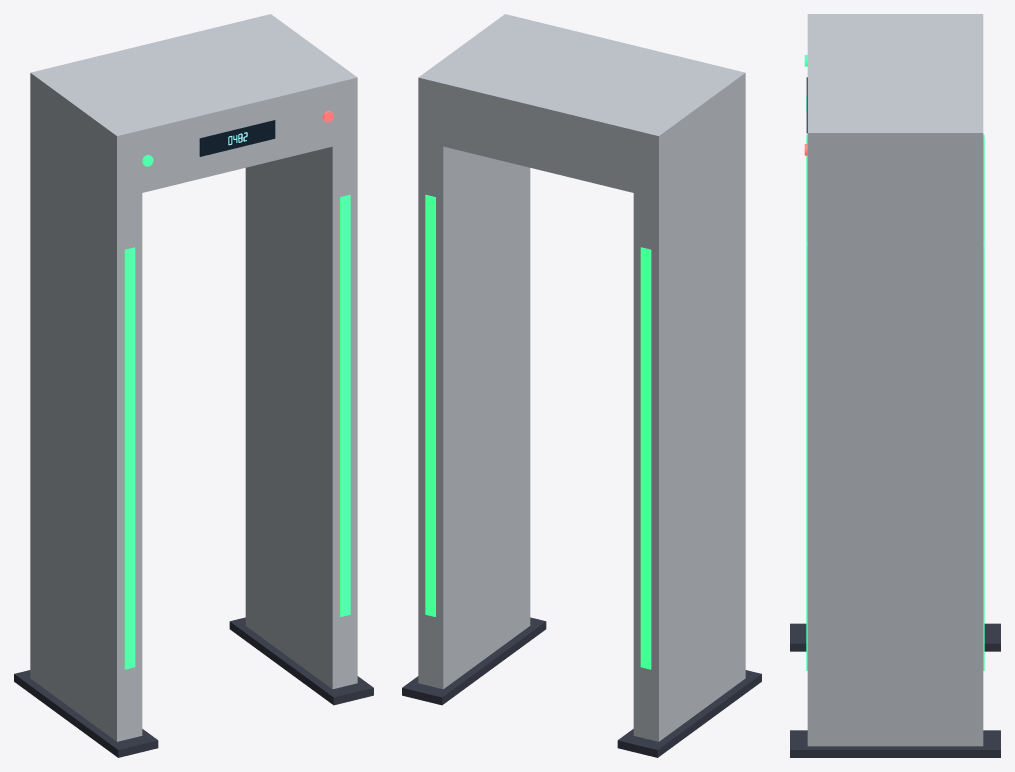
Rendered from air-029.glb.
3 renders of one model, left to right at view 1: azimuth 30°, elevation 25°; view 2: azimuth 150°, elevation 25°; view 3: azimuth 270°, elevation 25°, orthographic.
Visible parts, largest first — view 1: counter_panel, trace_ecg, dark_steel, monitor_screen; view 2: counter_panel, trace_ecg, dark_steel; view 3: counter_panel, dark_steel, trace_ecg.
Part boxes in pixels (x1,y1,x2,y2): counter_panel: (30, 14, 357, 741); trace_ecg: (124, 155, 350, 669); dark_steel: (14, 617, 373, 757); monitor_screen: (199, 120, 275, 156); counter_panel: (418, 14, 745, 741); trace_ecg: (425, 195, 651, 669); dark_steel: (402, 617, 761, 757); counter_panel: (807, 14, 983, 746); dark_steel: (790, 623, 1000, 757); trace_ecg: (804, 55, 984, 670).
Size of the model in its own units: 1.02 by 2.34 by 0.72.
